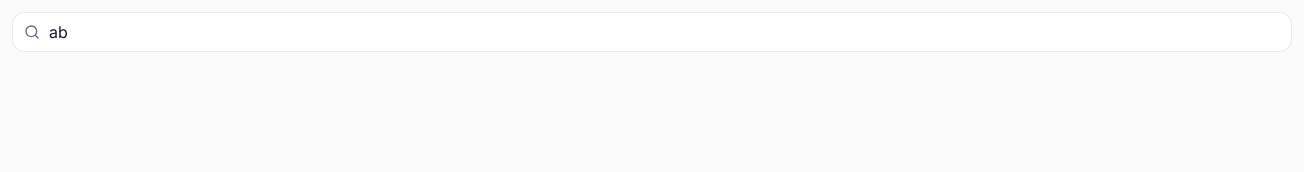
Test: SearchSelect › muestra emptyLabel personalizado
Click the field with placeholder "Buscar..." at (652, 32), box [12,12,1292,52]
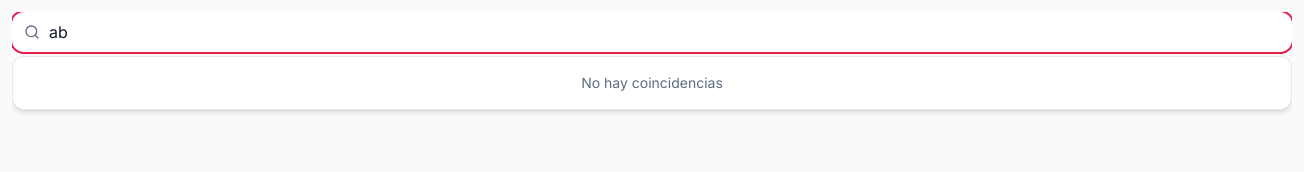
Result: the text "No hay coincidencias" is shown at [581,74,723,91]
